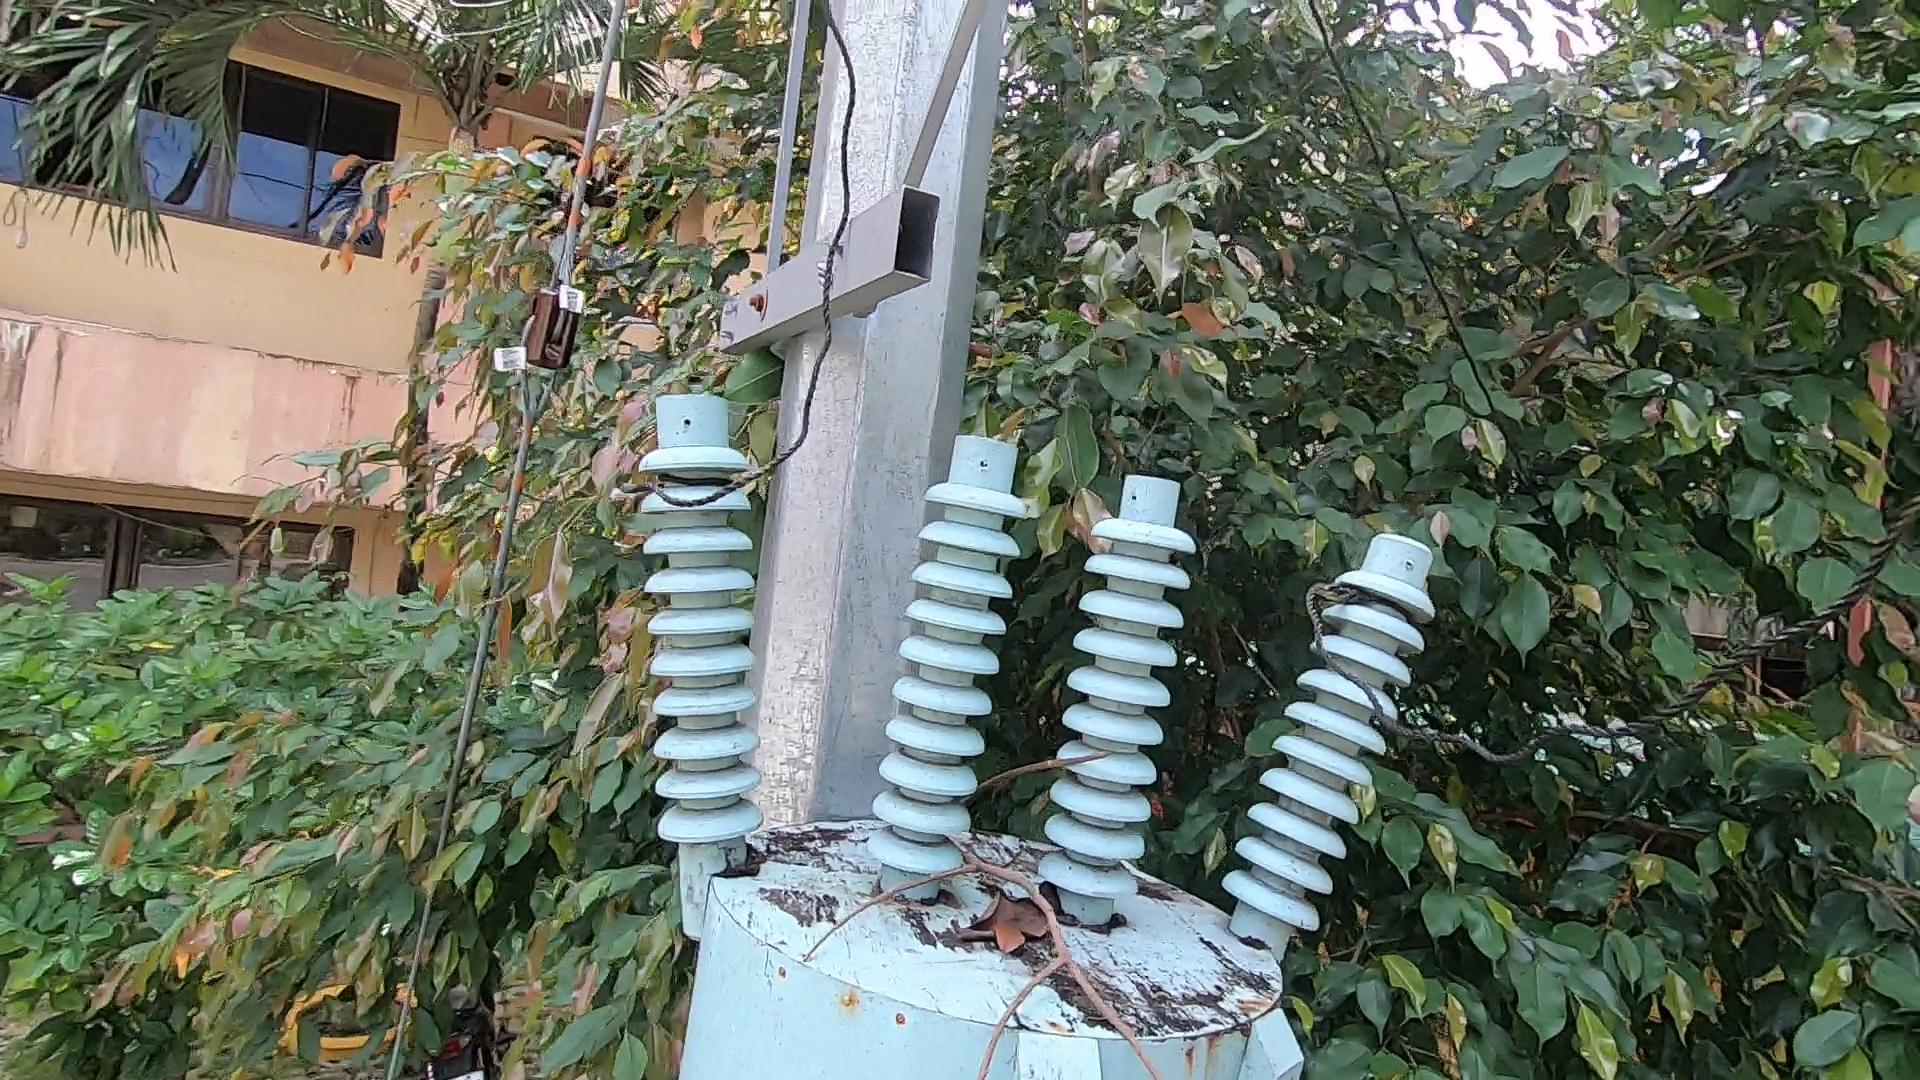leaf: (960, 866, 1088, 955), (708, 816, 761, 889)
tree branch: (756, 746, 1191, 1080)
